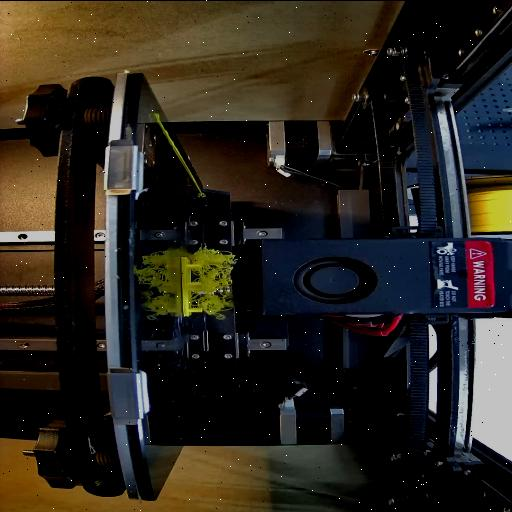spaghetti: (192, 246, 240, 319)
